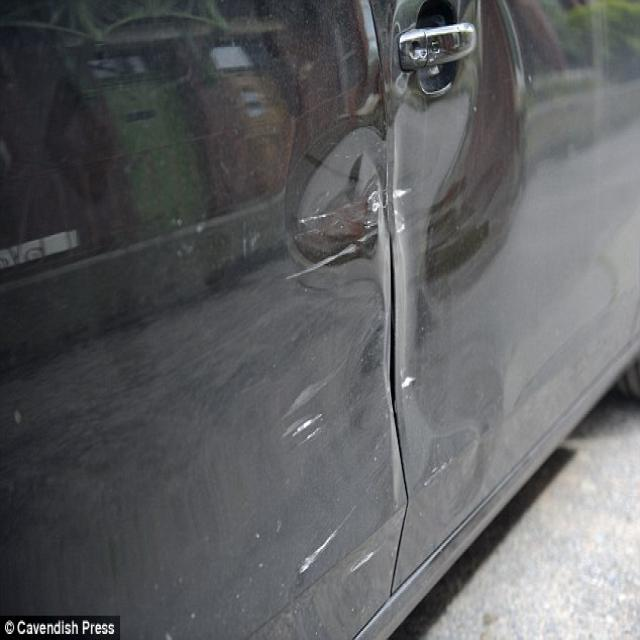dent: (258, 0, 531, 583)
scratch: (283, 164, 413, 282), (280, 365, 340, 443), (295, 505, 360, 577), (420, 454, 457, 492), (346, 548, 378, 577), (400, 376, 416, 391)
